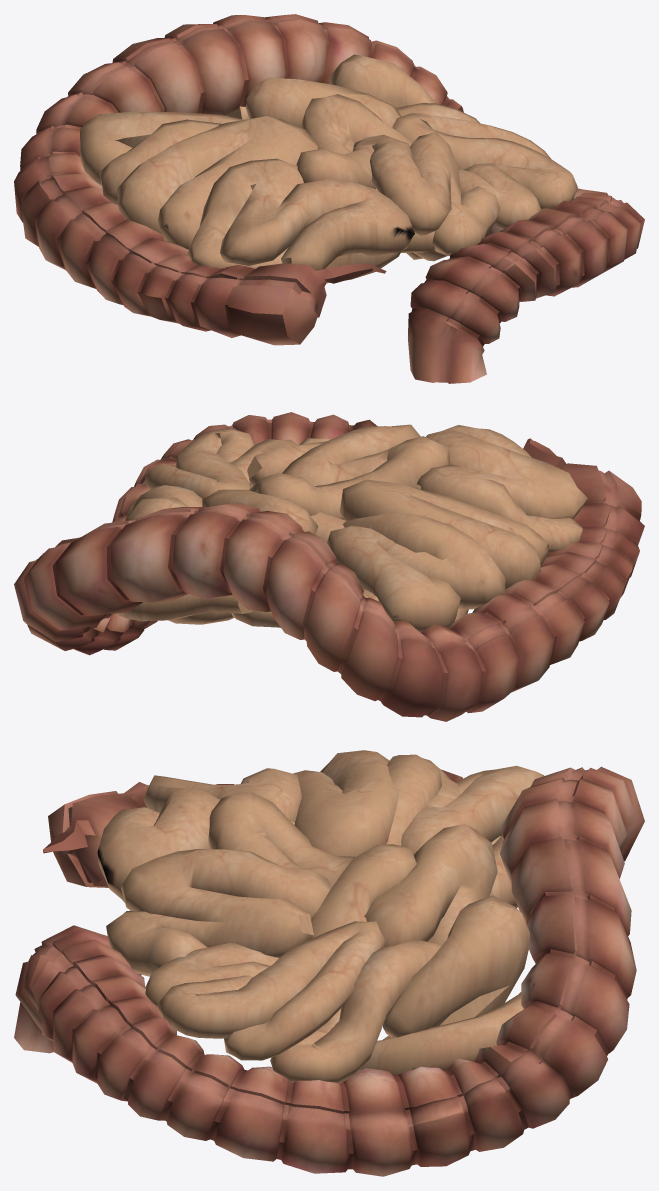
Rendered from SystemDigestive.fbx.
3 renders of one model, top to bottom at view 1: azimuth 30°, elevation 25°; view 2: azimuth 150°, elevation 25°; view 3: azimuth 270°, elevation 25°, orthographic. The views are drawn at different scales.
Visible parts, largest first — view 1: DigestiveSystem001, Apendix1; view 2: DigestiveSystem001, Apendix1; view 3: DigestiveSystem001, Apendix1.
Part boxes in pixels (left/top/right/bottom): DigestiveSystem001: left=14, top=14, right=644, bottom=383; Apendix1: left=326, top=263, right=386, bottom=283; DigestiveSystem001: left=14, top=412, right=644, bottom=721; Apendix1: left=523, top=438, right=561, bottom=466; DigestiveSystem001: left=14, top=750, right=644, bottom=1176; Apendix1: left=43, top=820, right=87, bottom=853.
Bounding box in the file's own units: 8.94 × 3.77 × 8.19.
